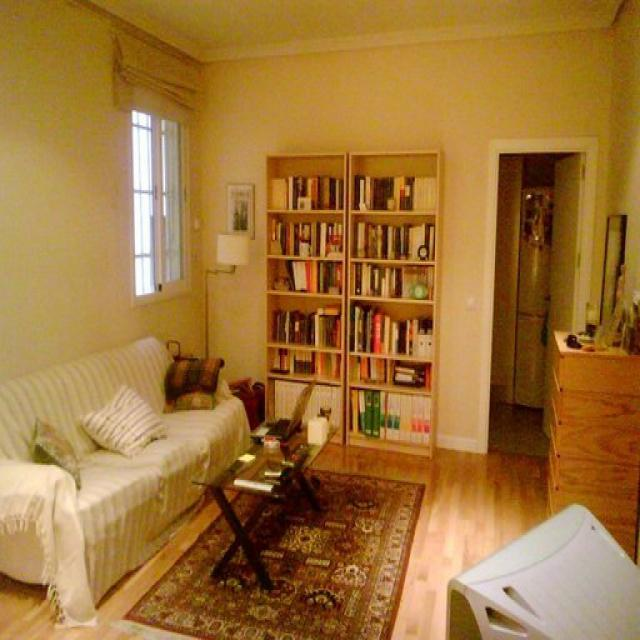2001: (121, 100, 190, 308)
coffe table: (192, 413, 339, 593)
entrance: (485, 143, 594, 460)
sofa bed: (1, 333, 252, 627)
